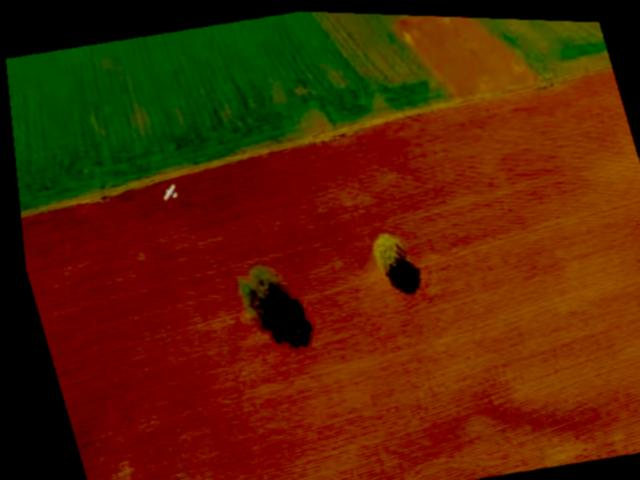uav: (151, 174, 181, 205)
